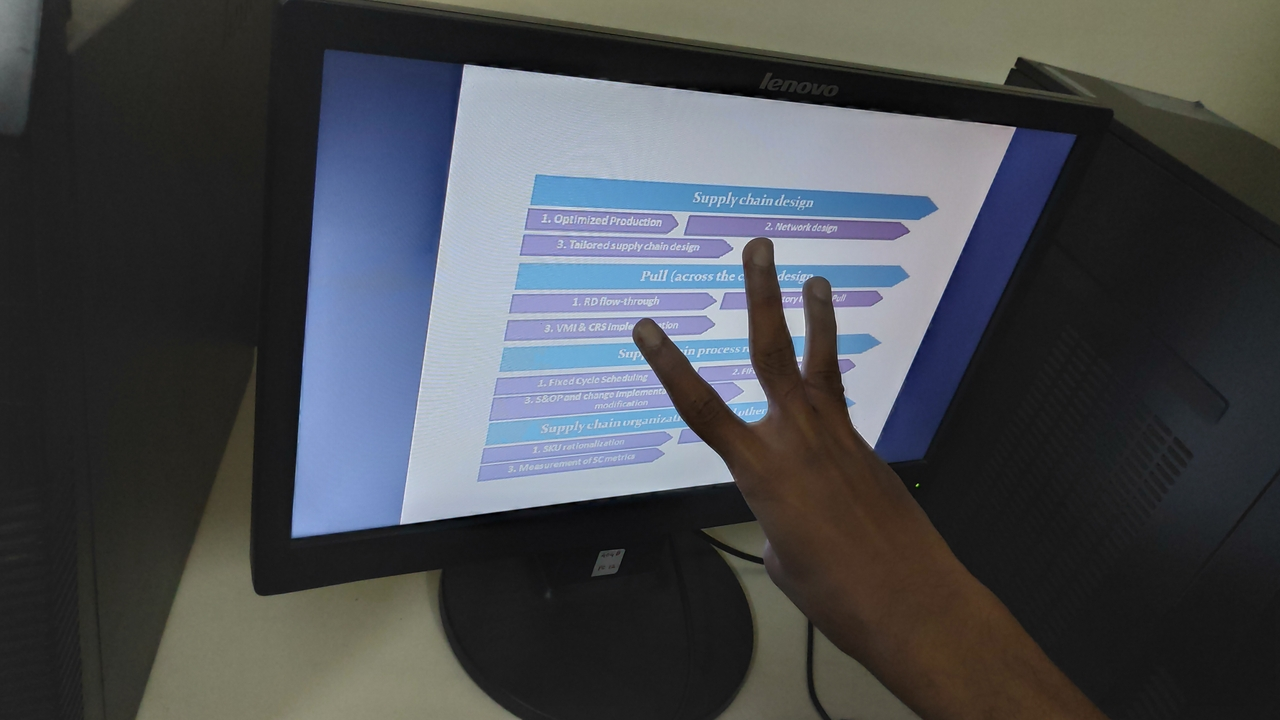fingertip: (628, 310, 686, 362), (794, 266, 850, 308), (736, 230, 786, 270)
